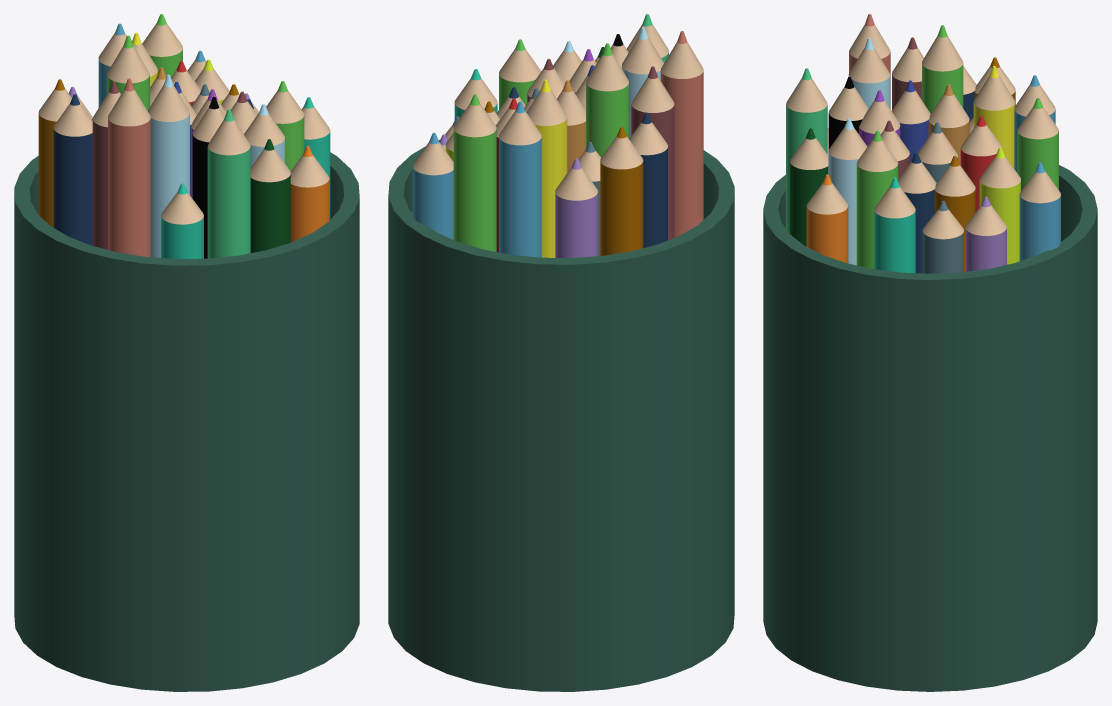
File: potCrayons.gltf
The picture shows the model from 3 angles, left to right: view 1: azimuth 30°, elevation 25°; view 2: azimuth 150°, elevation 25°; view 3: azimuth 270°, elevation 25°; orthographic projection. The views are drawn at different scales.
Visible parts, largest first — view 1: Cylinder.006; view 2: Cylinder.006; view 3: Cylinder.006.
Part boxes in pixels (bbox=[...]): Cylinder.006: bbox=[14, 14, 359, 691]; Cylinder.006: bbox=[388, 14, 734, 691]; Cylinder.006: bbox=[763, 14, 1097, 691].
Size of the model in its own units: 0.0323 by 0.0608 by 0.0323.
